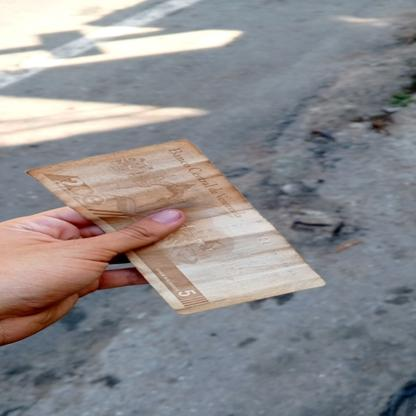five-back-vef: (26, 138, 326, 314)
